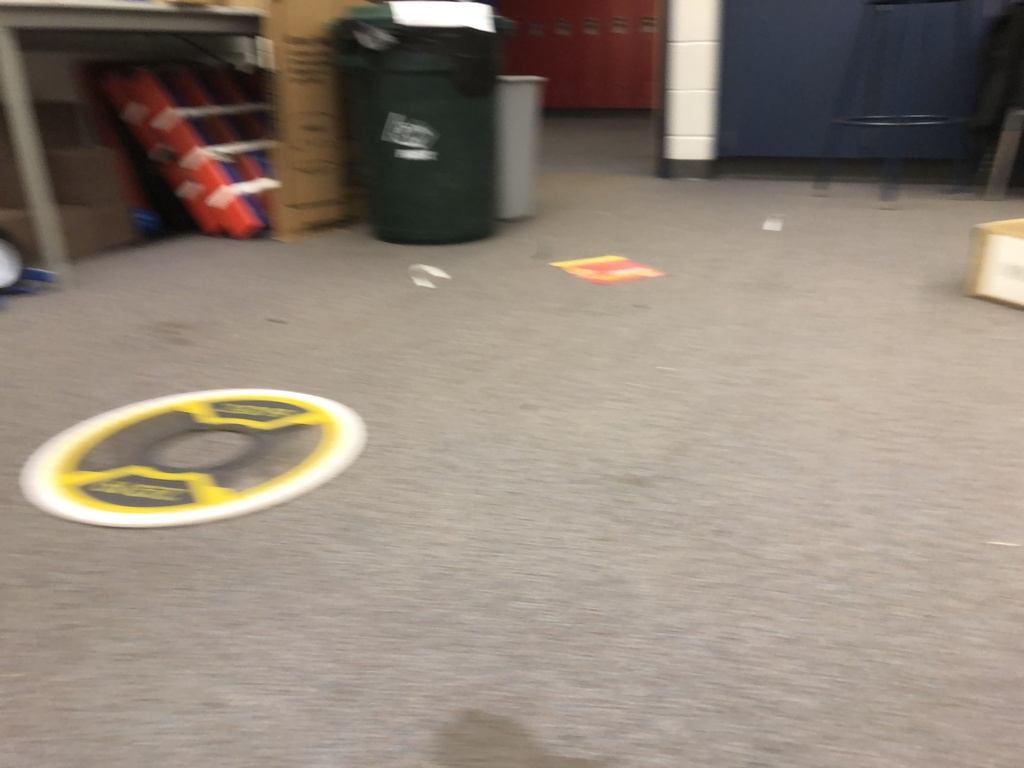hatch_panel: (3, 371, 387, 544)
